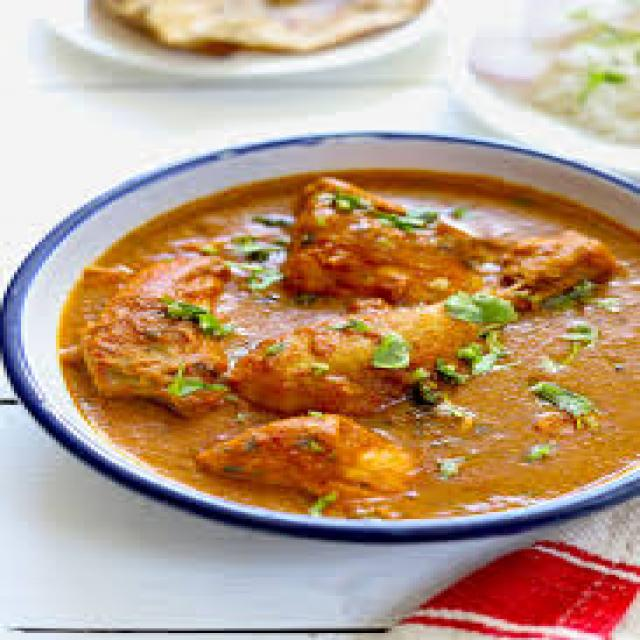Chicken Curry: (73, 165, 640, 517)
